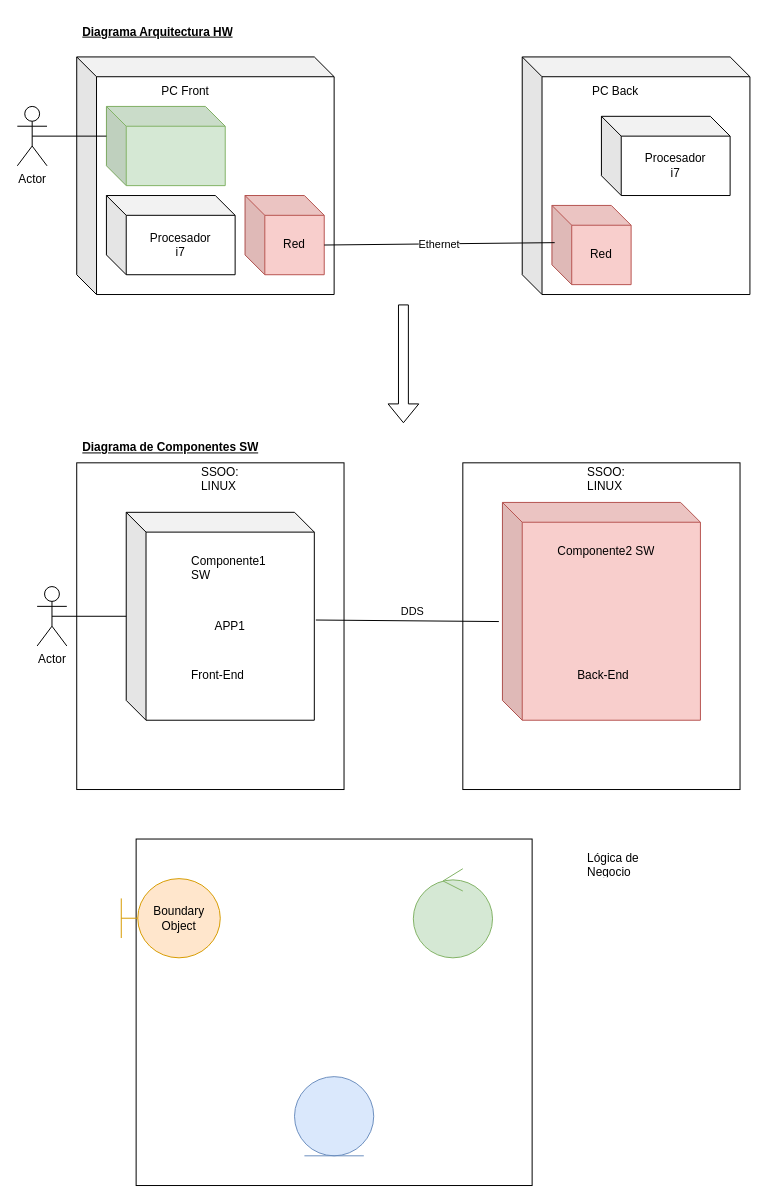
Some shapes in this 767 by 1203 pixel diagram are drawn without their labels. The shapes that lost their labels are listed below. From the top down, each one's box as (x1, y1, x2, y2) in pixels, then its label:
(105, 105, 225, 186): Monitor
(501, 501, 700, 720): APP2
(412, 868, 493, 958): Control Object
(294, 1076, 374, 1156): Entity Object
